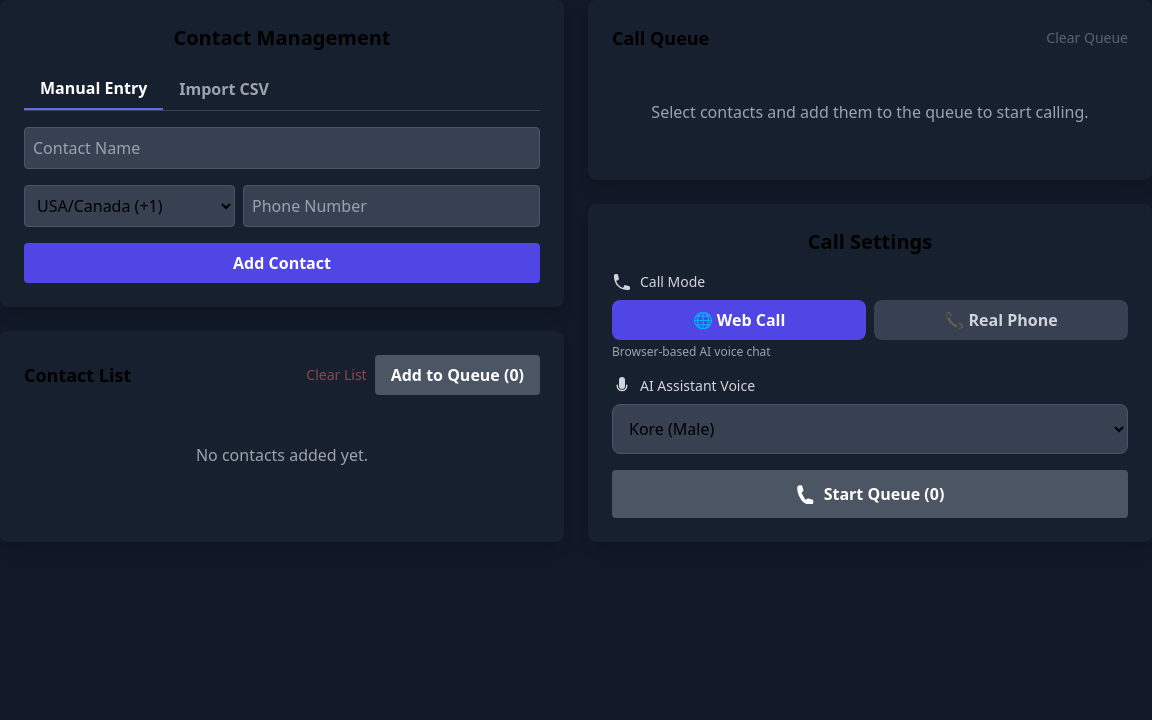
Test: LiveCall Component › allows adding a contact manually
The width and height of the screenshot is (1152, 720).
Type "John Doe" into the field with placeholder "Contact Name".
click(282, 148); type("John Doe")  # box [24,127,540,169]
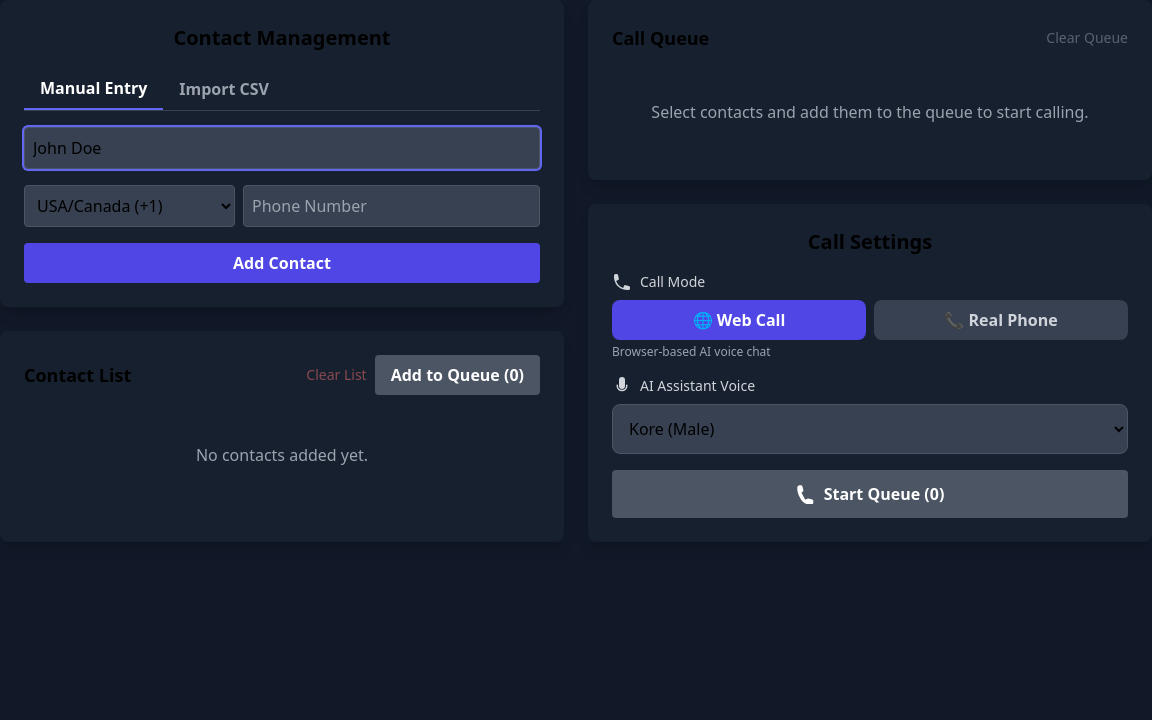
Type "1234567890" into the field with placeholder "Phone Number".
click(392, 206); type("1234567890")  # box [243,185,540,227]
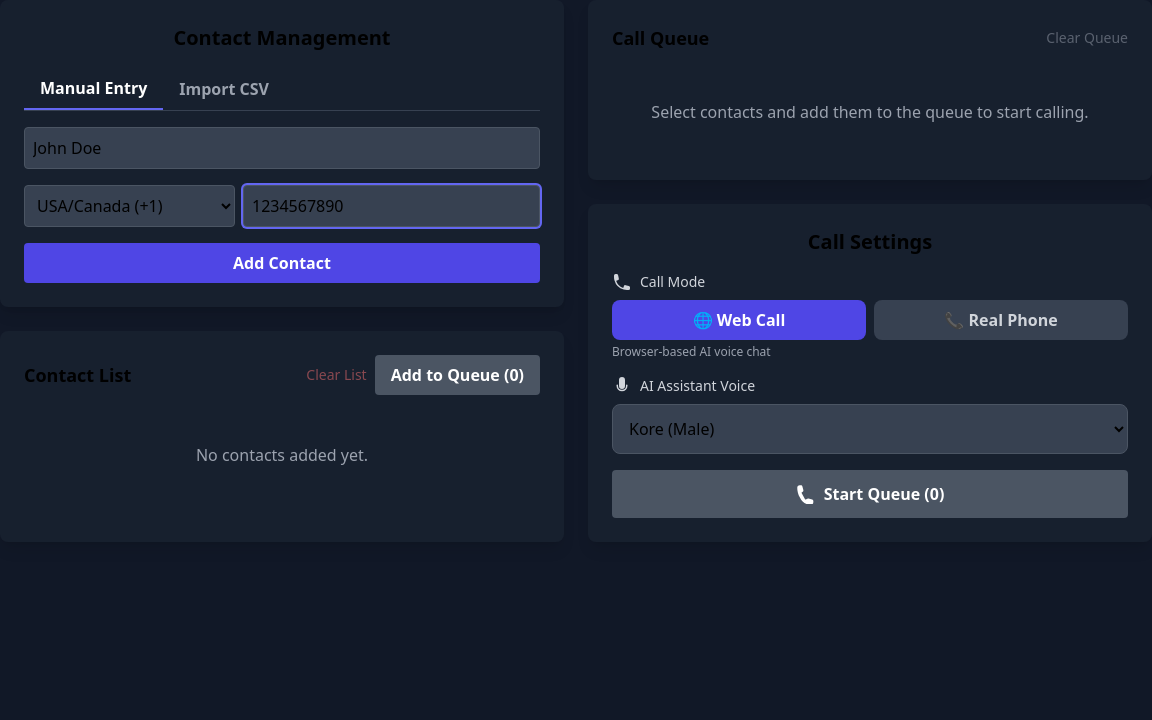
Click the button "Add Contact".
click(282, 263)  # box [24,243,540,283]
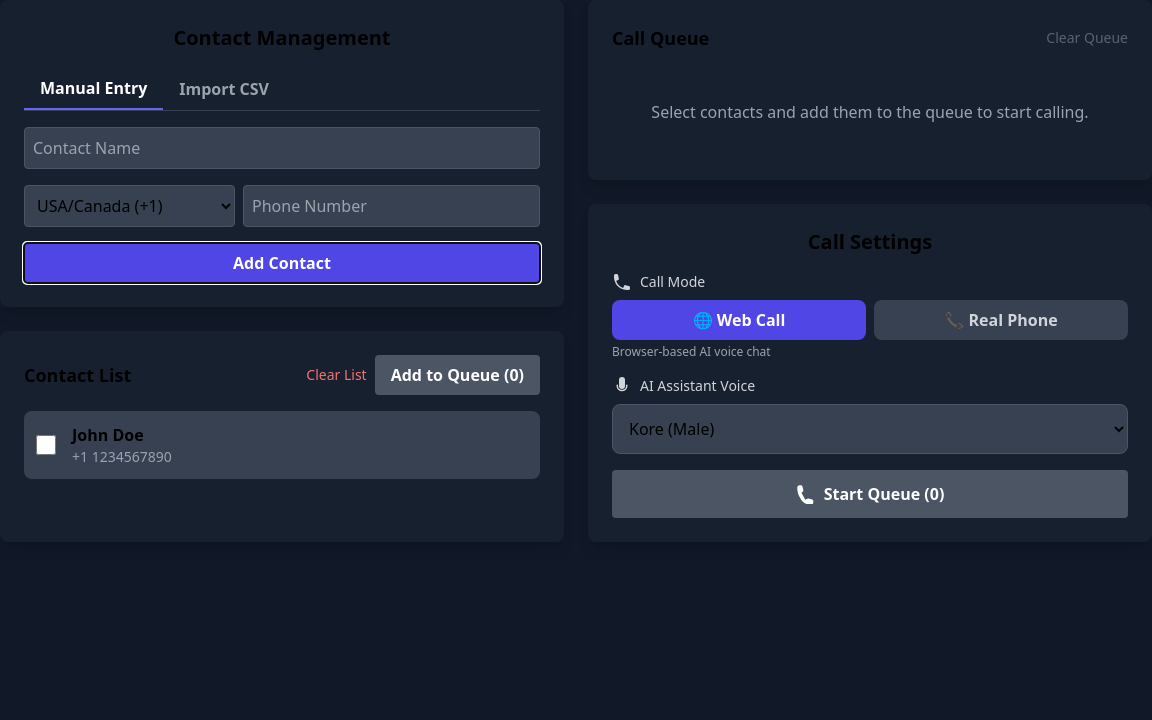
Result: the text "John Doe" is shown at [72,424,144,446]
Result: the text "+1 1234567890" is shown at [72,447,172,466]
